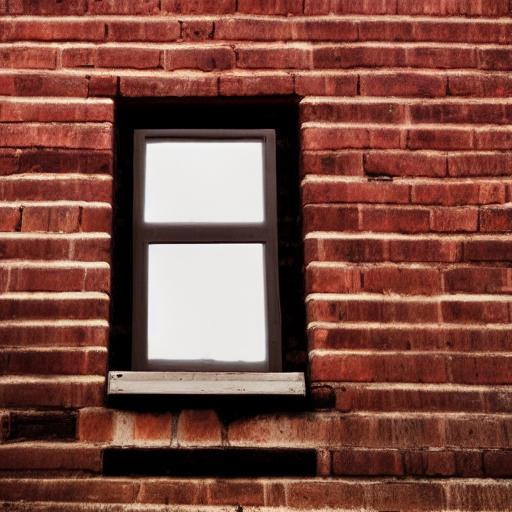Window: (105, 98, 309, 402)
